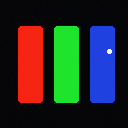0 point: (107, 49, 111, 53)
